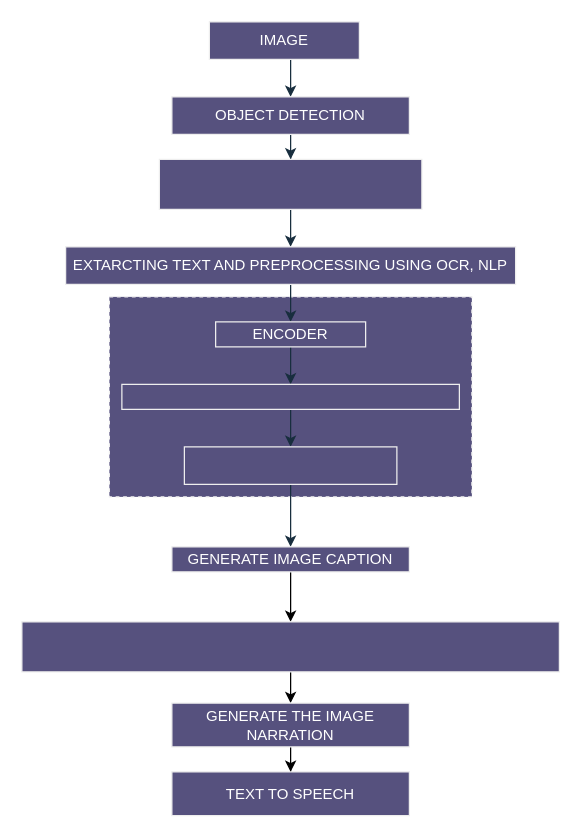
Some shapes in this 581 by 838 pixel diagram are drawn without their labels. Here are the shapes that lost their labels. From the top down, the centre of each, then its label:
At point (290, 183): "SEPERATE THE OBJECTS USING YOLO".
At point (290, 396): "PRETRAINED IMAGE CAPTIONING MODEL".
At point (290, 465): "DECODER".
At point (290, 646): "PASSING OBJECT DETECTED, TEXT EXTRACTED AND IMAGE CAPTION AS PROMPT TO LLM MODEL".
